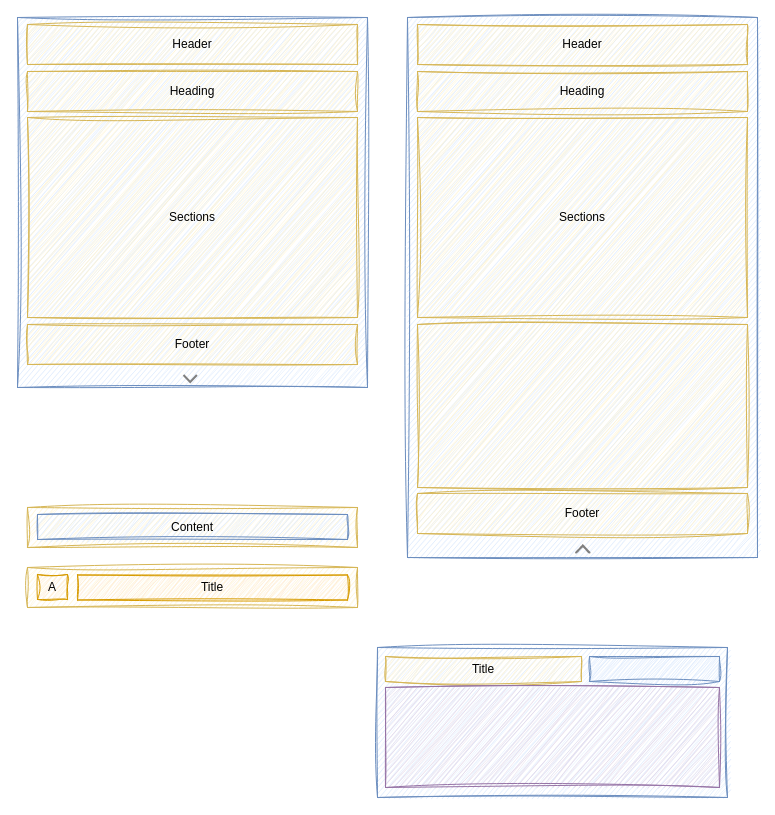
Some shapes in this 775 by 815 pixel diagram are drawn without their labels. Here are the shapes that lost their labels. From the top down, the centre of each, then its label:
pixel 582 406: Expandable sections
pixel 654 669: Actions
pixel 552 737: Custom
